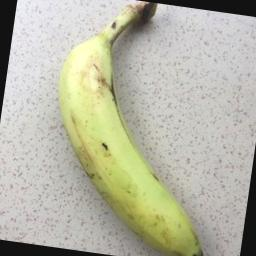Banana Ripe: (28, 3, 243, 256)
